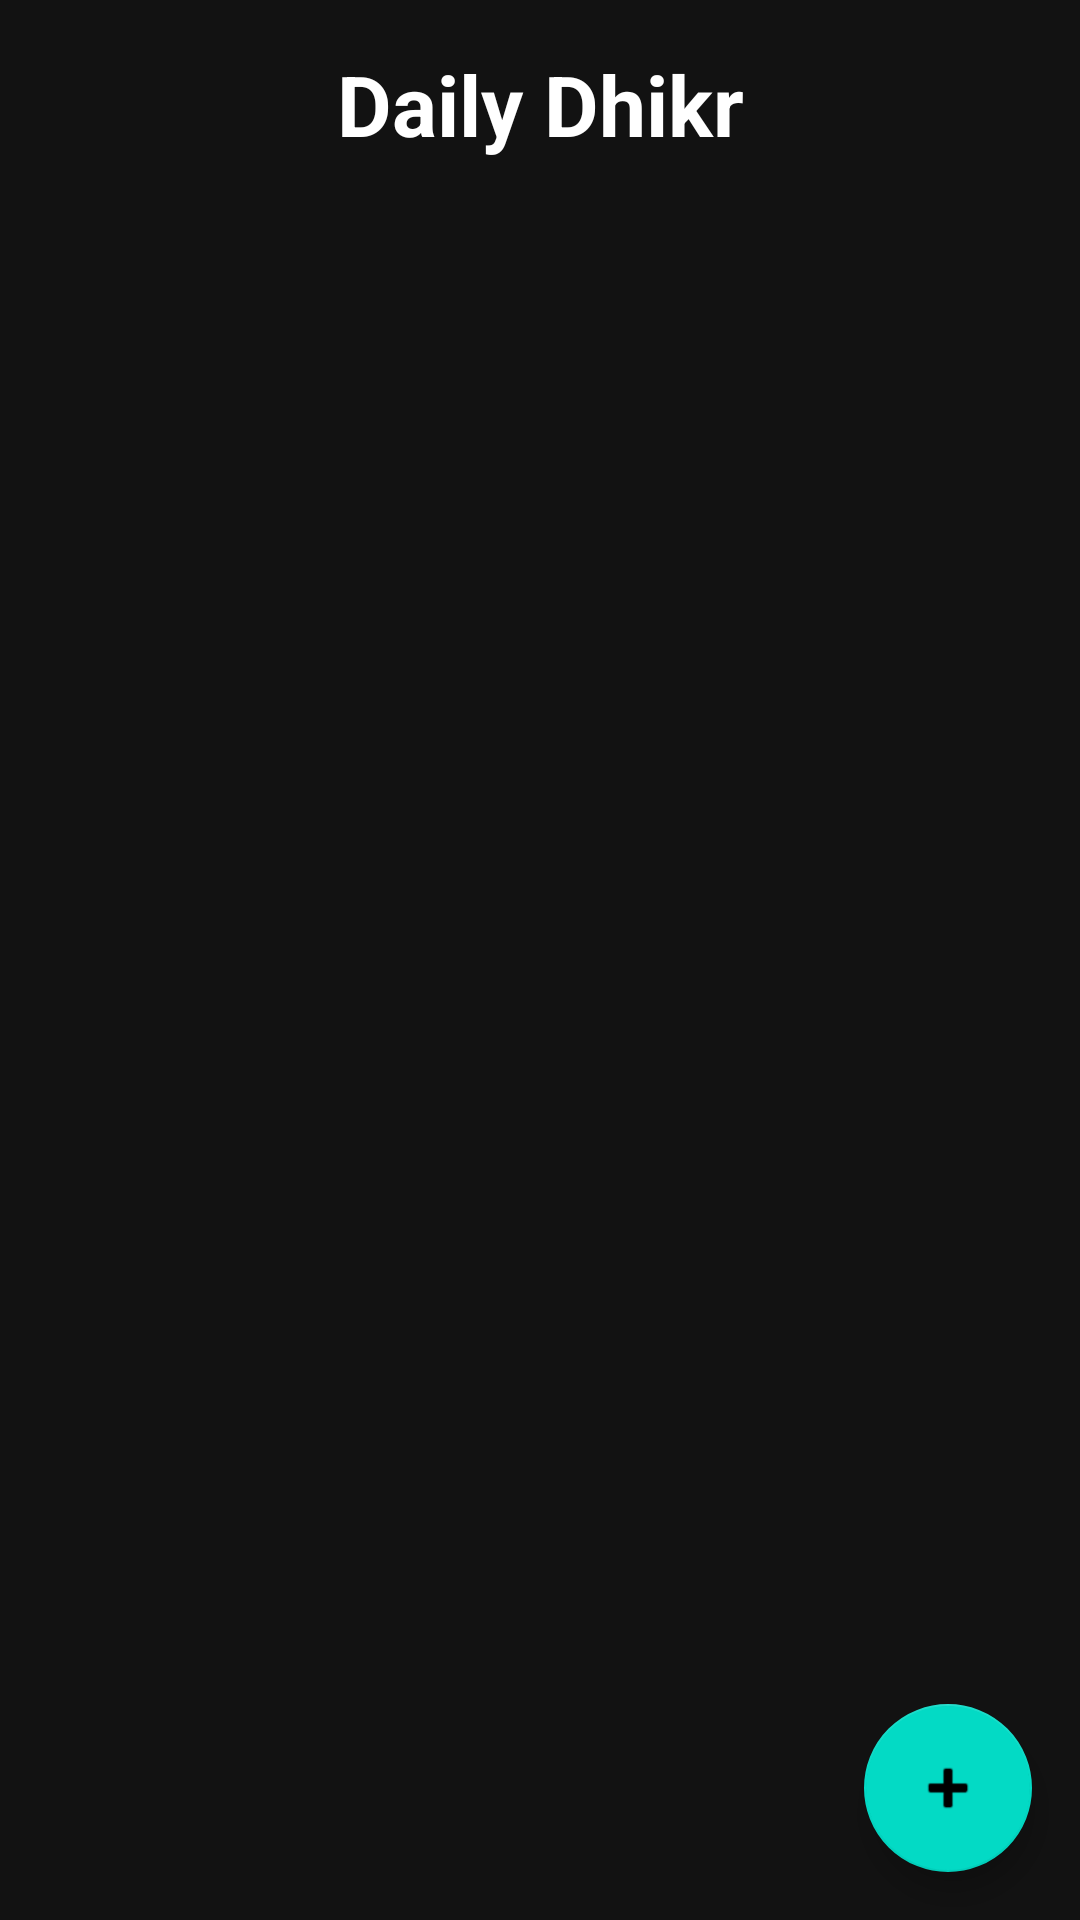

Locate icon controls on the screen. Image size 1080px x 1920px, boxes as BBox(x1, y1, x2, y2).
Add new dhikr: BBox(864, 1704, 1032, 1872)
